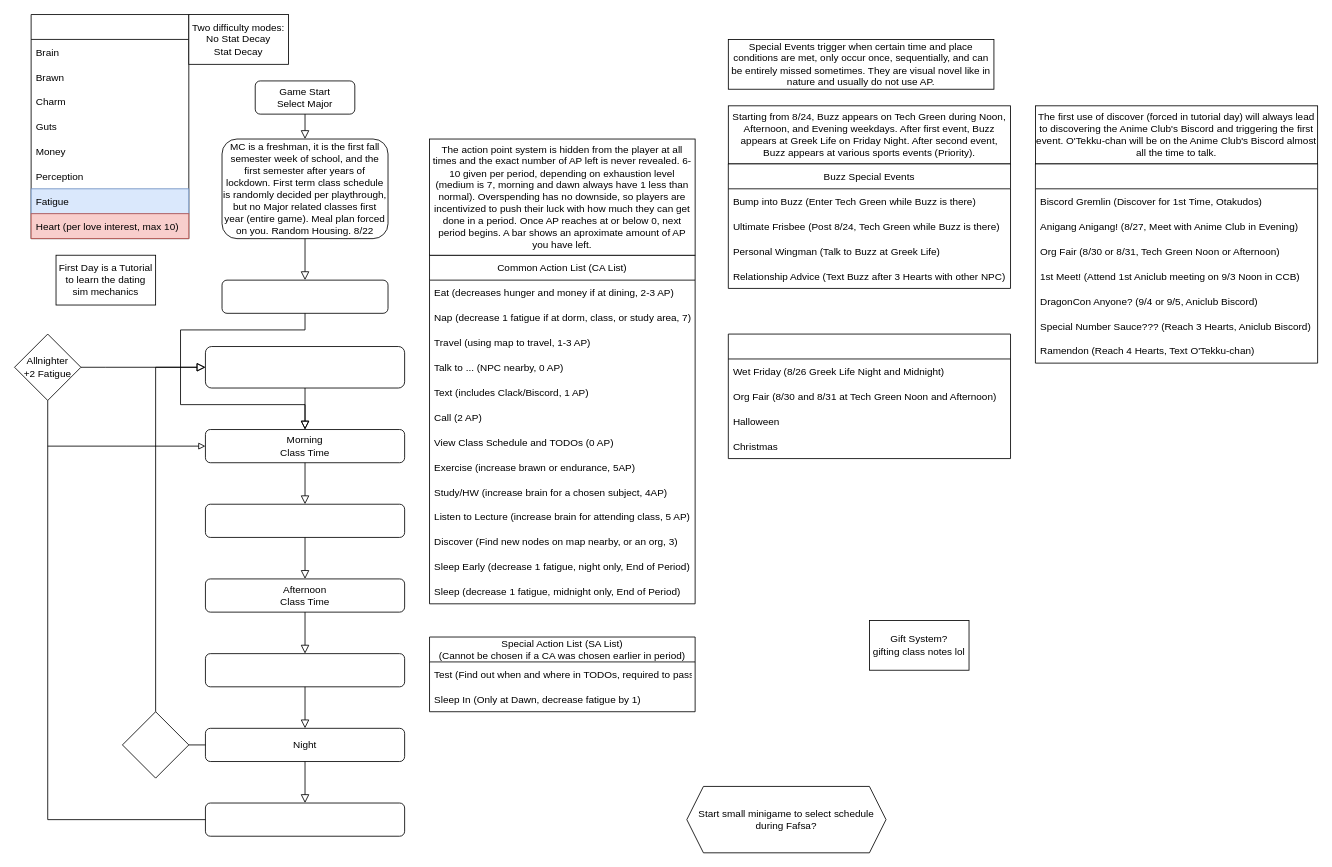
Image size: 1332x867. Some labels were removed from this diagram. Here are the shapes that lost their labels. From the top down, the box of each, then its label:
(30, 14, 189, 239): Stat List
(1035, 163, 1318, 363): O'Tekku-chan Special Events
(221, 279, 388, 313): Start Day/Night Cycle 4-10 Action Points per period
(205, 346, 405, 388): Dawn (Only if slept early or pulled allnighter) +1 Day Count
(727, 333, 1011, 459): Global Special Events
(205, 503, 405, 537): Noon Class Time
(205, 653, 405, 687): Evening Class Time, + 1 Fatigue End of Period (EoP)
(122, 711, 189, 778): Sleep Early
(205, 802, 405, 836): Midnight
